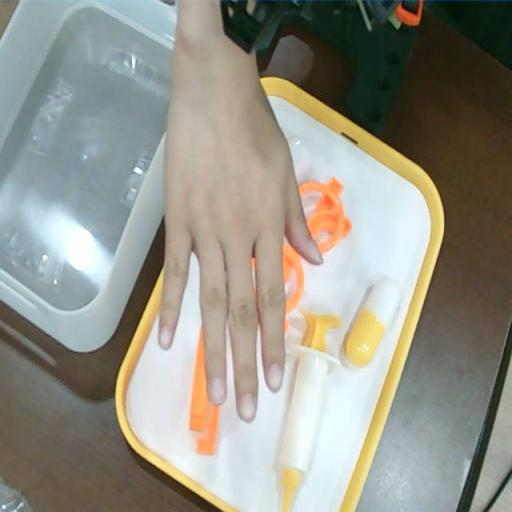hospital: (158, 48, 322, 424)
